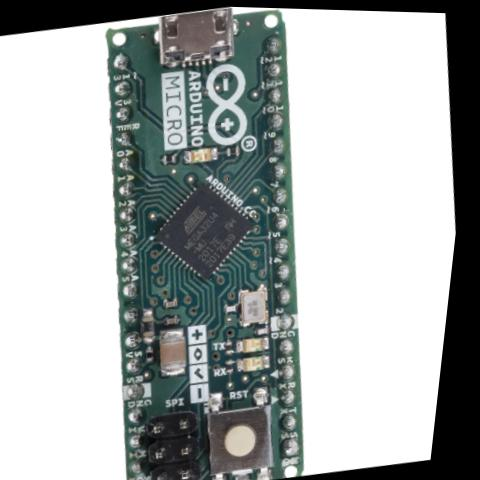Arduino-Micro: (43, 2, 372, 480)
